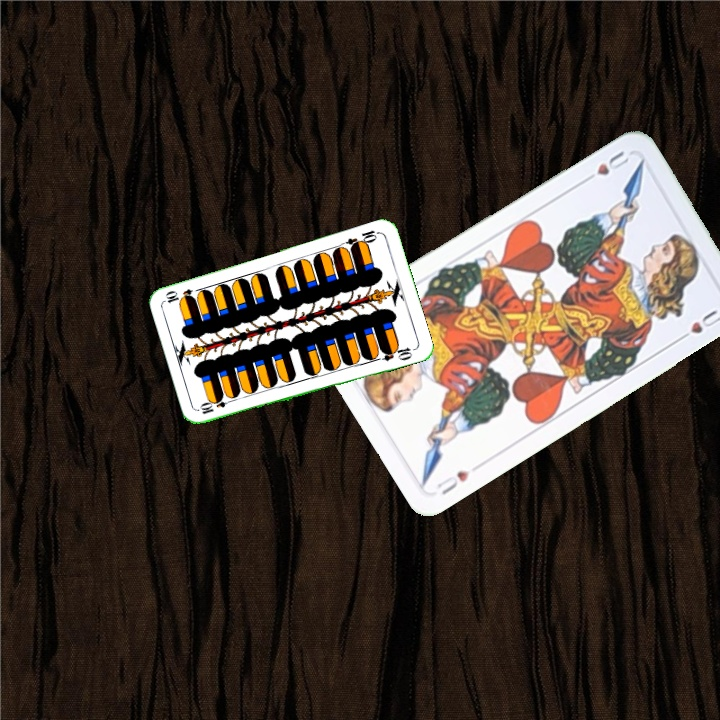E10: (342, 226, 382, 252), (196, 394, 236, 417)
HU: (578, 146, 632, 186), (433, 466, 473, 497)
